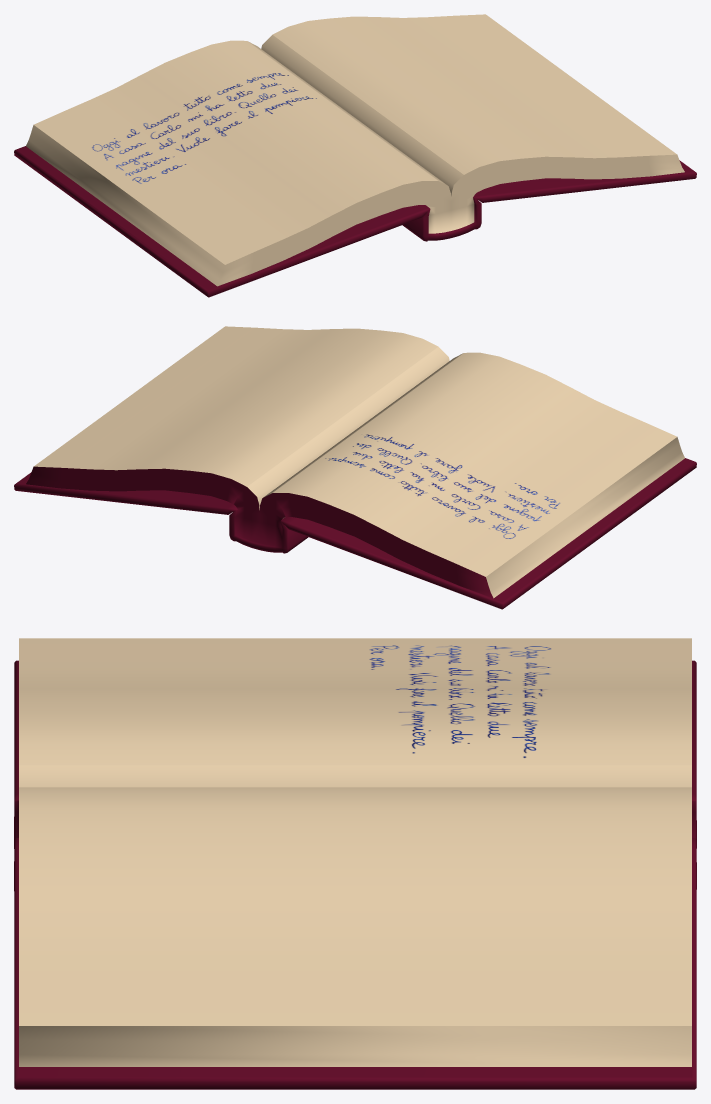
File: diario_past.glb
3 views of the same model, one above another, from view 1: azimuth 30°, elevation 25°; view 2: azimuth 150°, elevation 25°; view 3: azimuth 270°, elevation 25° (orthographic). The views are drawn at different scales.
Parts seen in each view (by area): view 1: diario-past; view 2: diario-past; view 3: diario-past.
Part boxes in pixels (<box>): diario-past: <box>14,14,696,297</box>; diario-past: <box>14,326,696,609</box>; diario-past: <box>14,638,696,1089</box>.
Bounding box in the file's own units: 1.25 × 0.1611 × 0.8617.
Materials: 2 (1 with a texture image).
